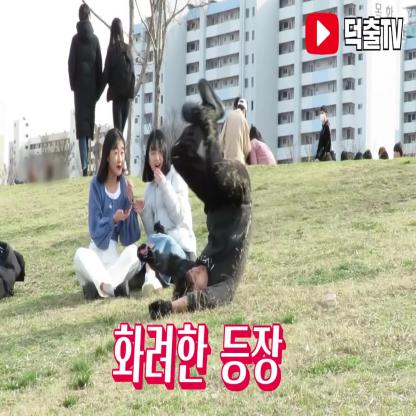Fall_Down: (136, 76, 256, 322)
